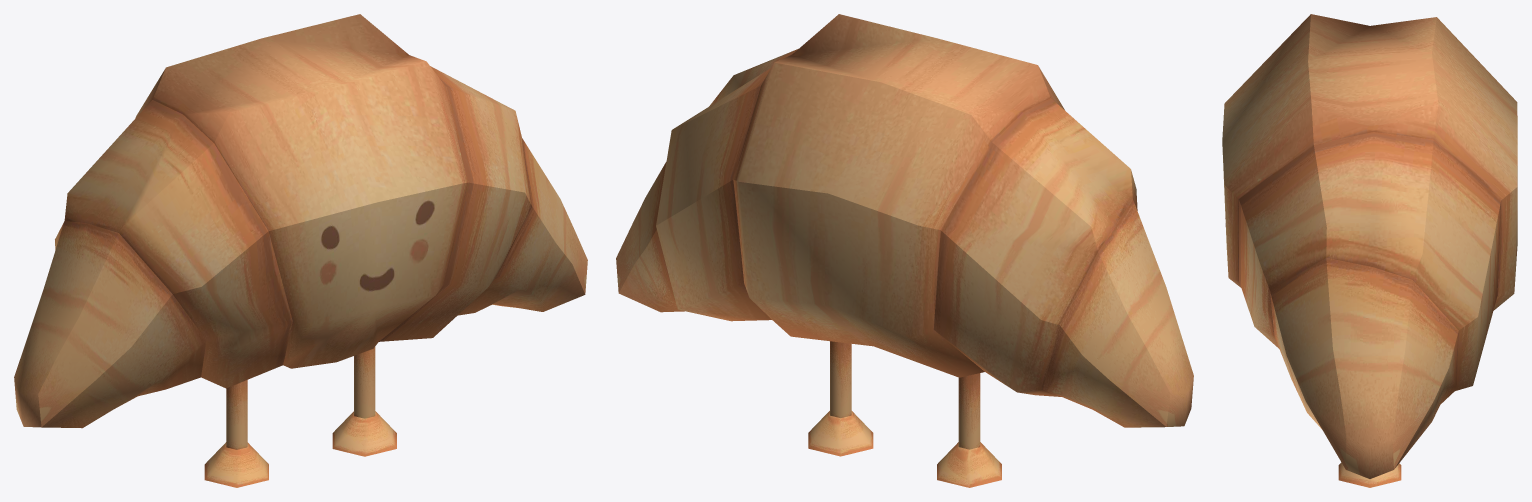
The model's file is Bun.glb.
3 views of the same model, side by side, from view 1: azimuth 30°, elevation 25°; view 2: azimuth 150°, elevation 25°; view 3: azimuth 270°, elevation 25° (orthographic). The views are drawn at different scales.
Parts seen in each view (by area): view 1: Box011; view 2: Box011; view 3: Box011.
Part boxes in pixels (left/top/right/bottom): Box011: left=14, top=14, right=587, bottom=487; Box011: left=616, top=14, right=1193, bottom=487; Box011: left=1222, top=14, right=1517, bottom=487.
Bounding box in the file's own units: 4.29 × 2.89 × 2.01.
1 material, 1 textured.
